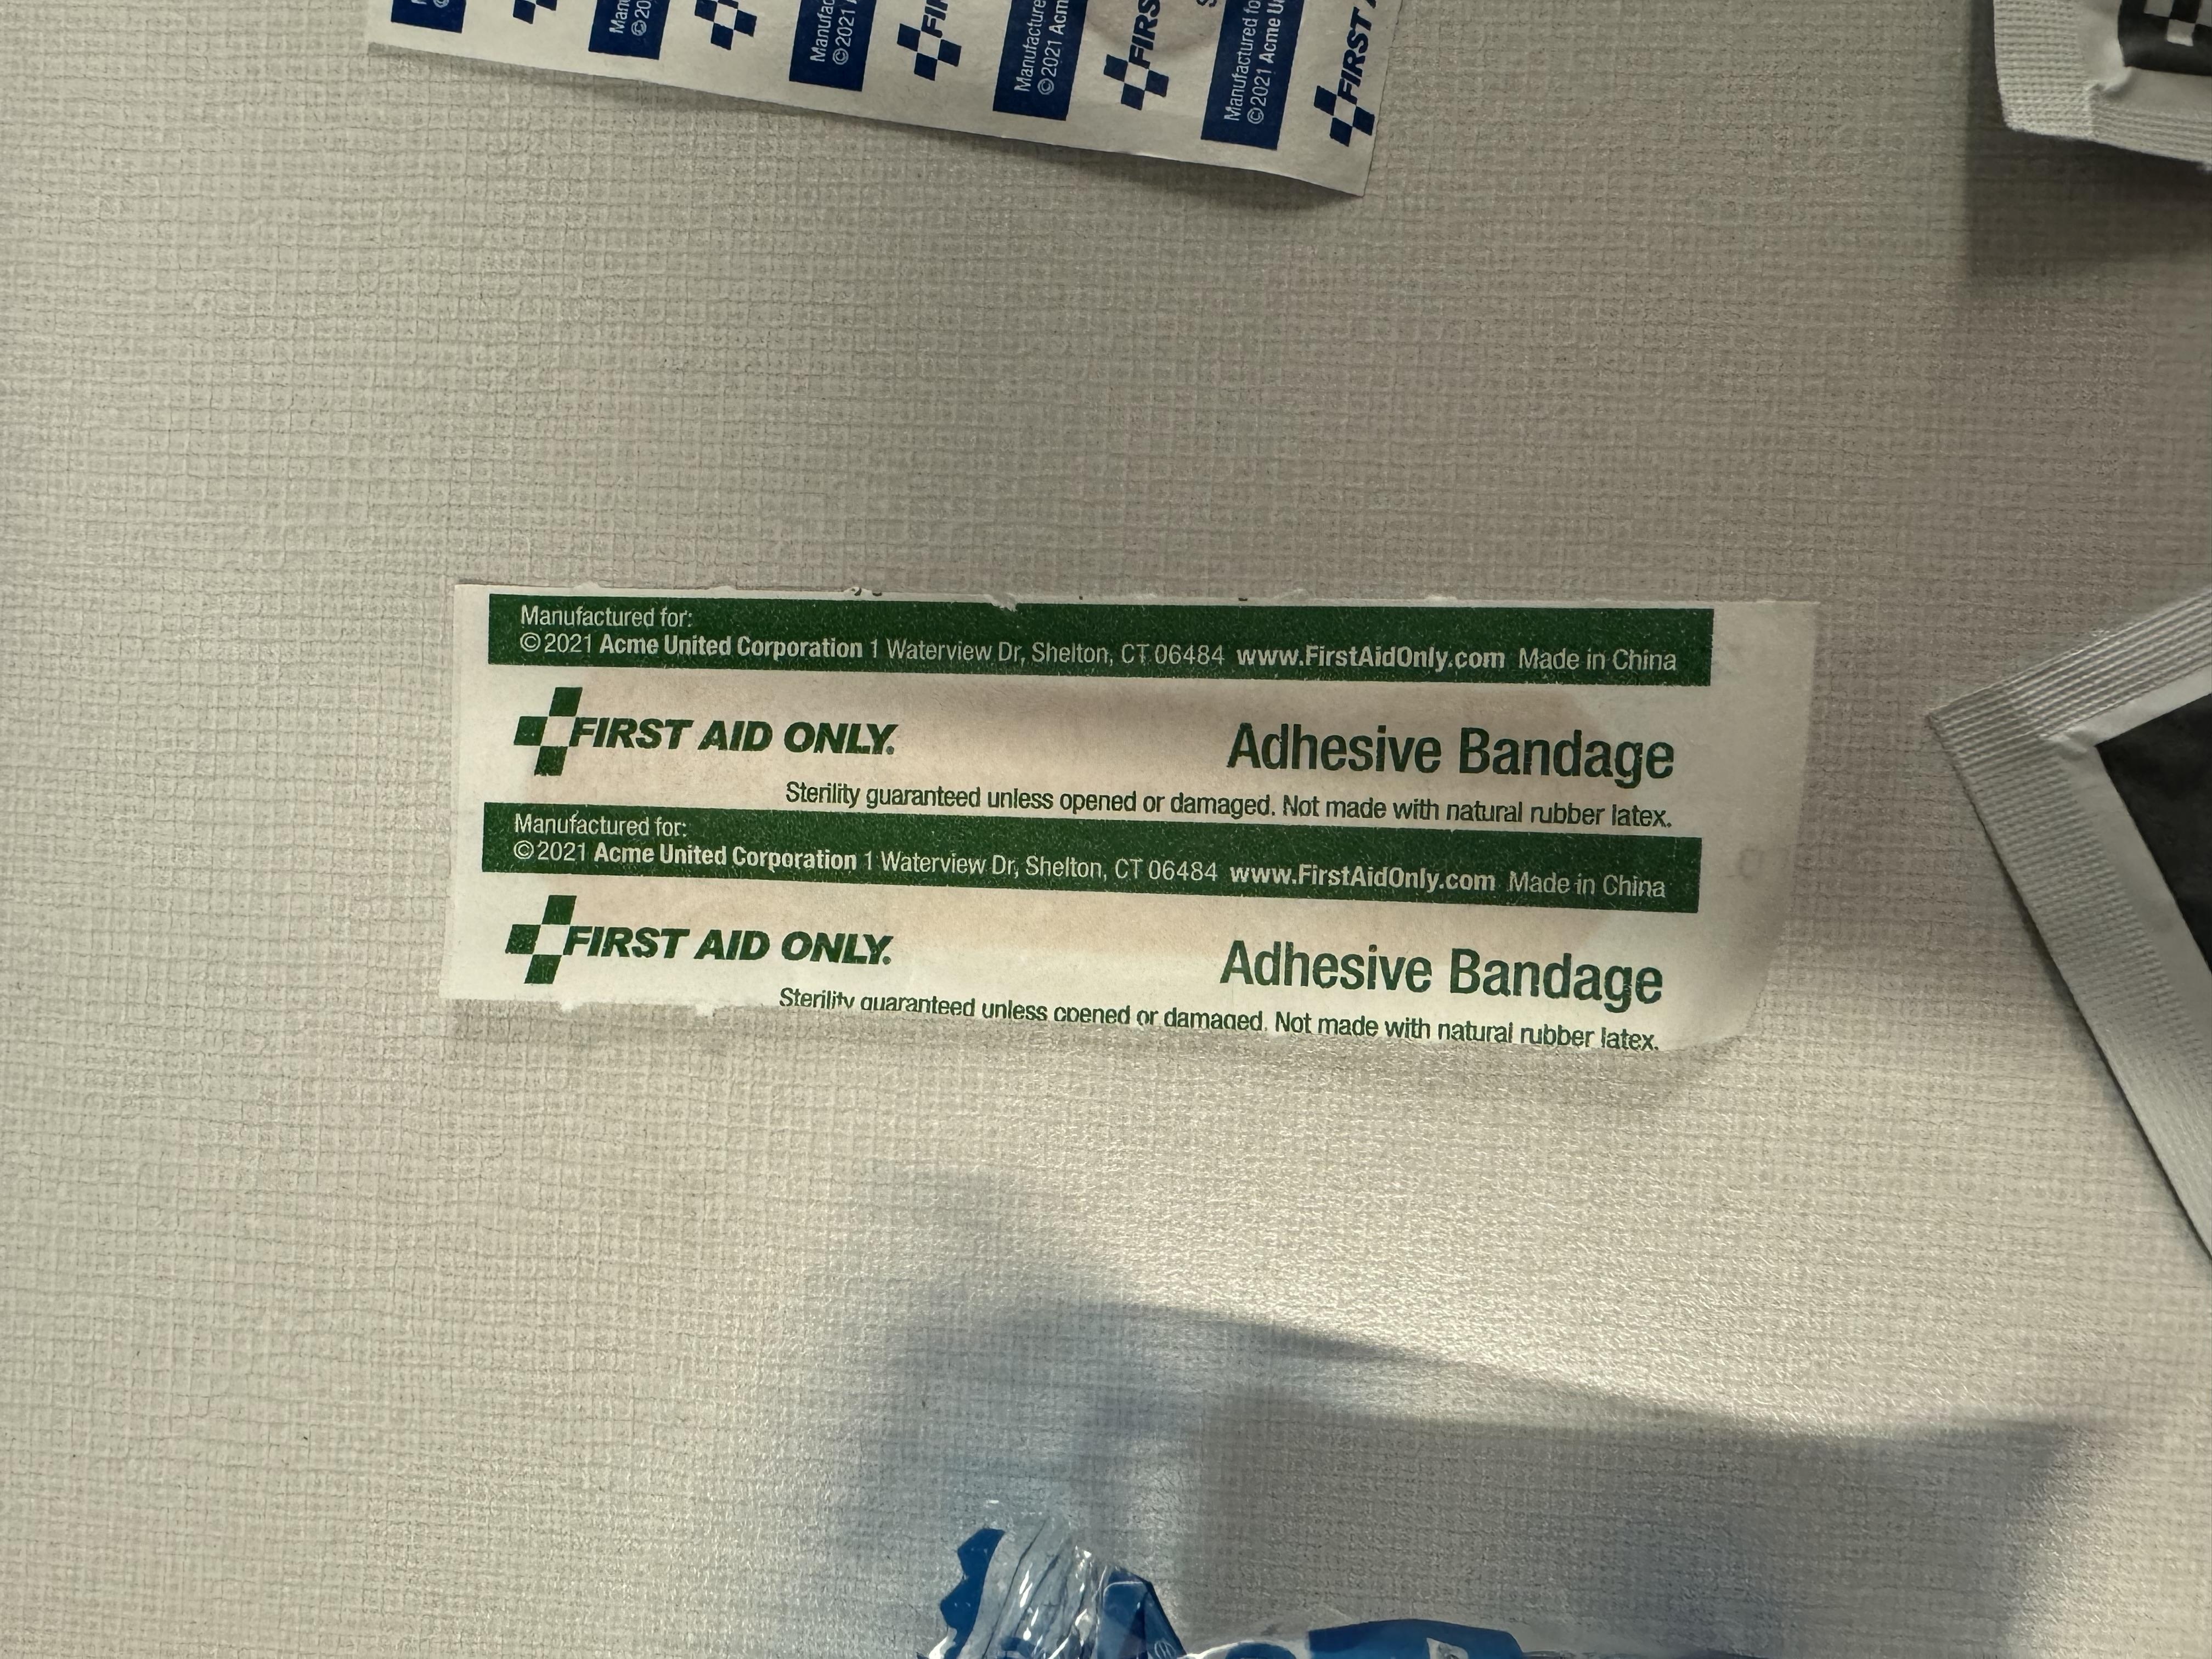bandage: (754, 270, 1507, 1408)
